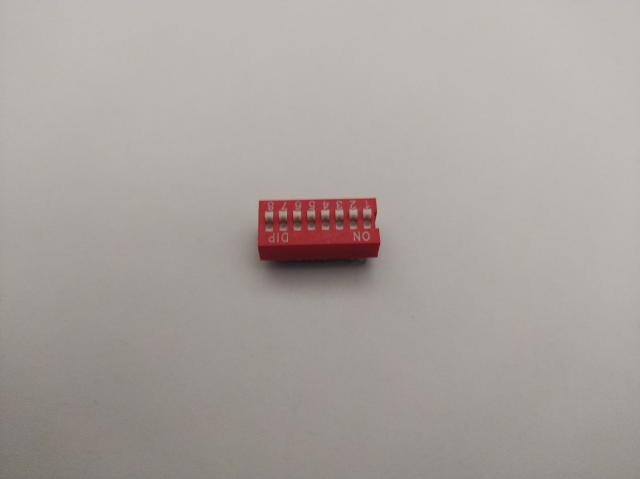dip_switch: (258, 198, 380, 264)
